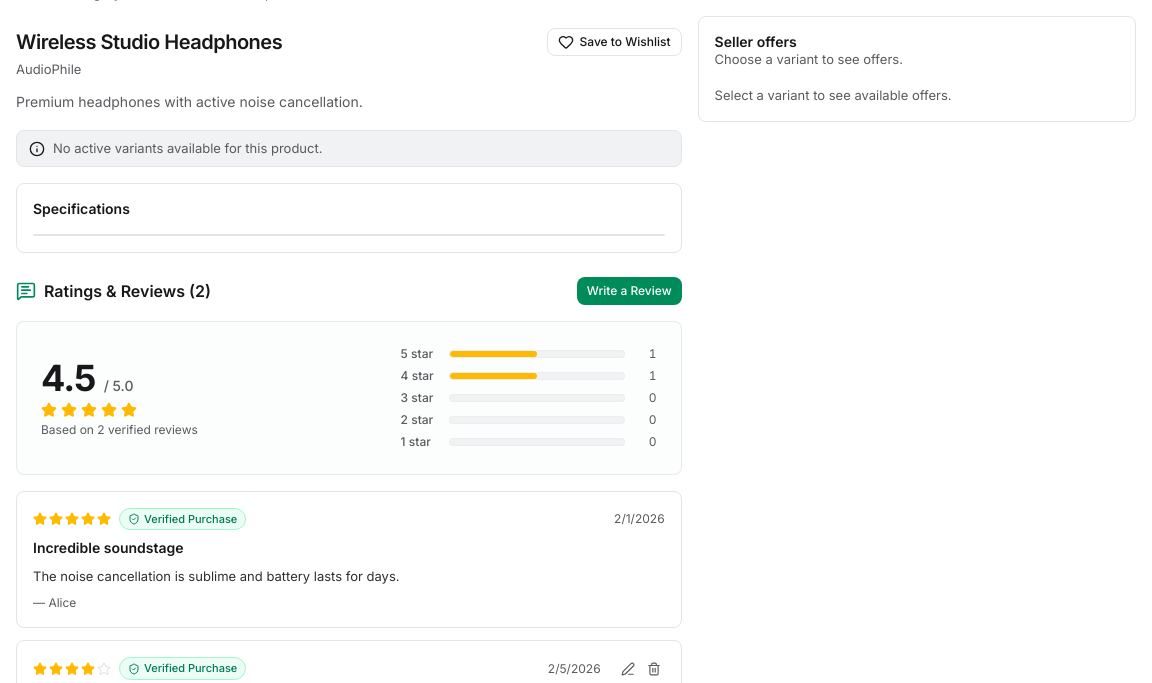
Test: Customer Product Reviews & Moderation Frontend Tests › 5. Write-Review Form & Validation: validates minimum comment length
Click the button "Write a Review" at (629, 291), box [577,277,682,305]
(page scrolled)
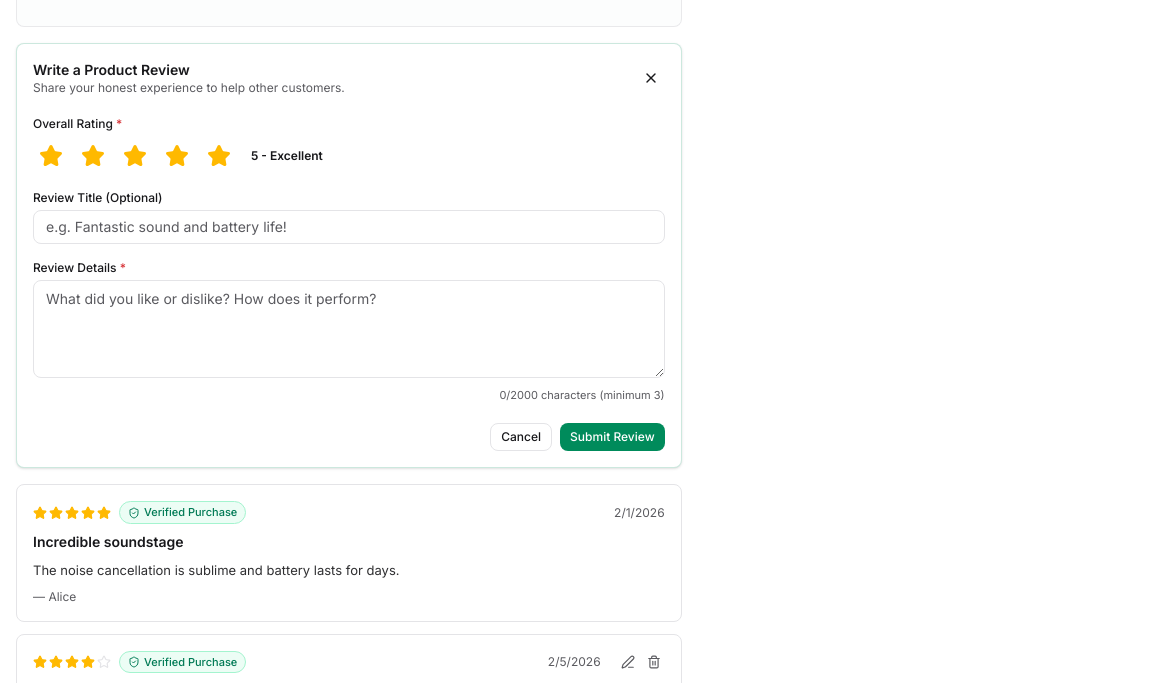
Check: the element with test id "write-review-form" is shown, box [16,43,682,468]
Fill in a comment with fewer than 3 characters
Type "Hi" into the text box with test id "review-comment-input" at (349, 329), box [33,280,665,378]
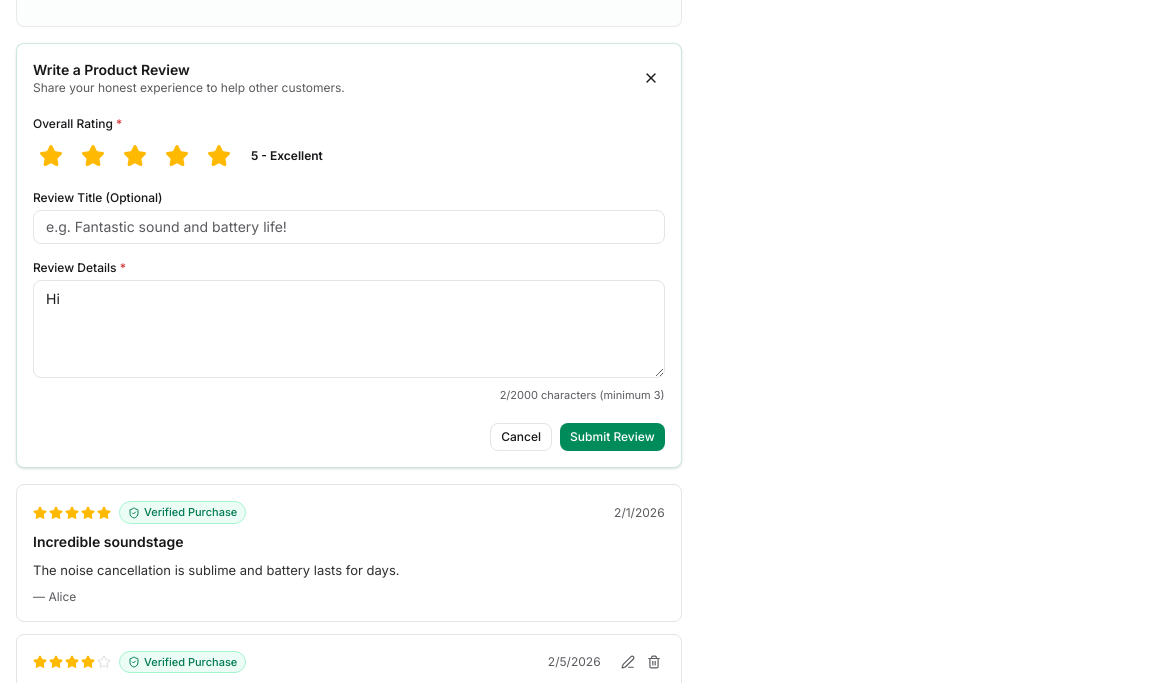
Click the button with test id "submit-review-button" at (612, 437), box [560,423,665,451]
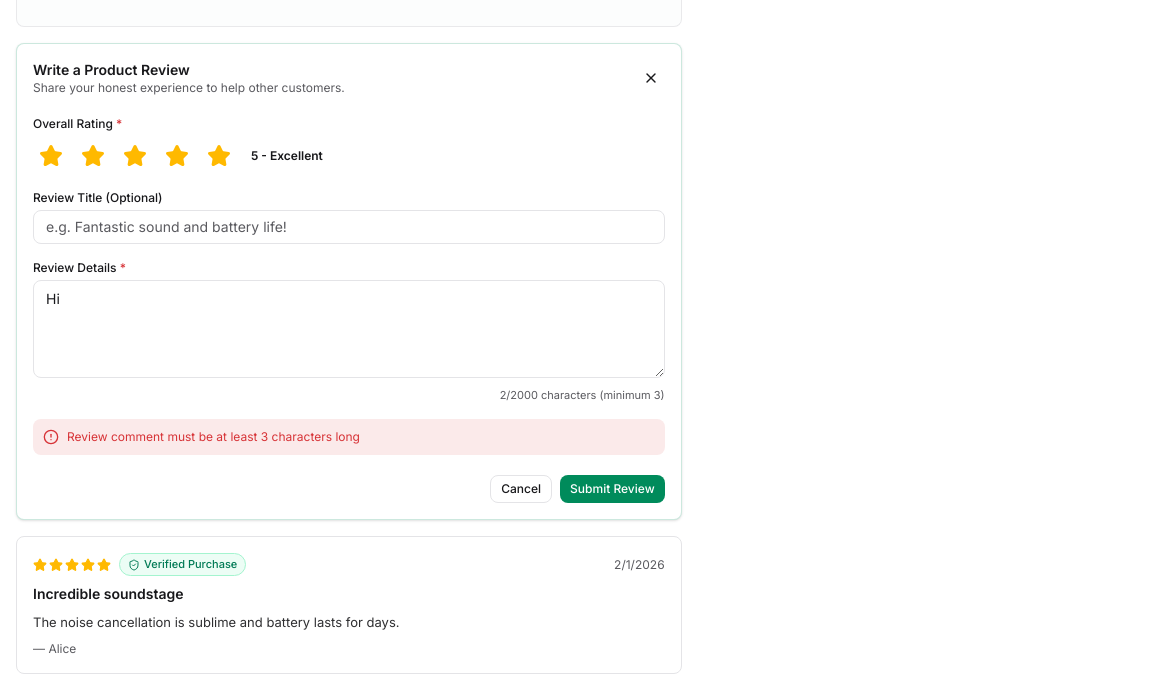
Check: the text "Review comment must be at least 3 characters long" is shown, box [67,429,360,445]
